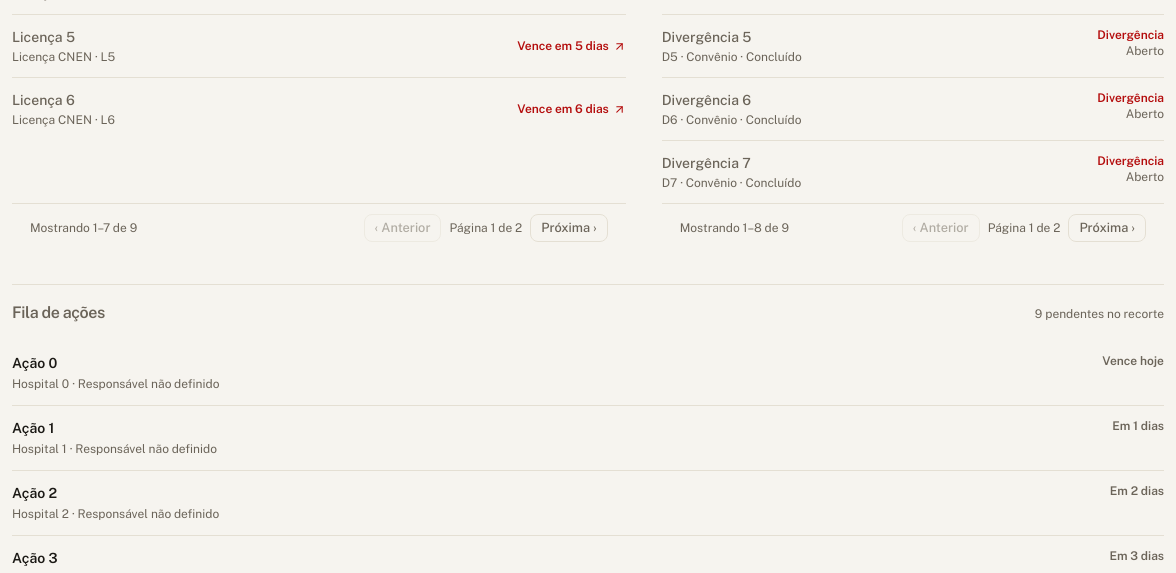
Test: MonitoramentoPainelPendencias › pagina todas as listas operacionais sem perder registros
(page scrolled)
Click the button "Próxima ›" below "Vence em 6 dias".
click(569, 228)  # box [530, 214, 608, 242]
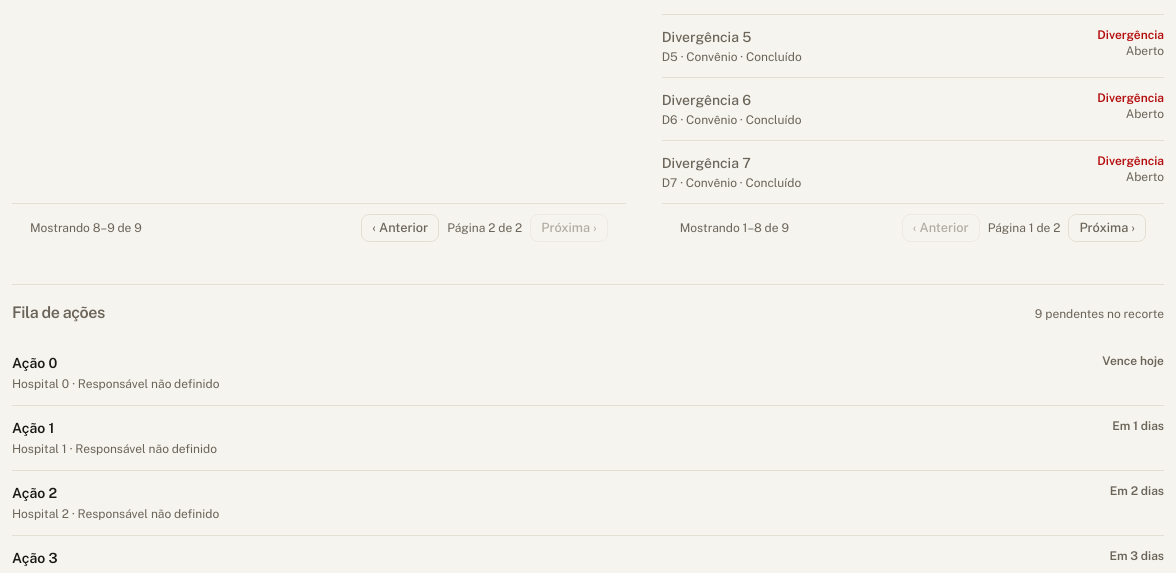
Click the 2nd button "Próxima ›".
click(1107, 228)  # box [1068, 214, 1146, 242]
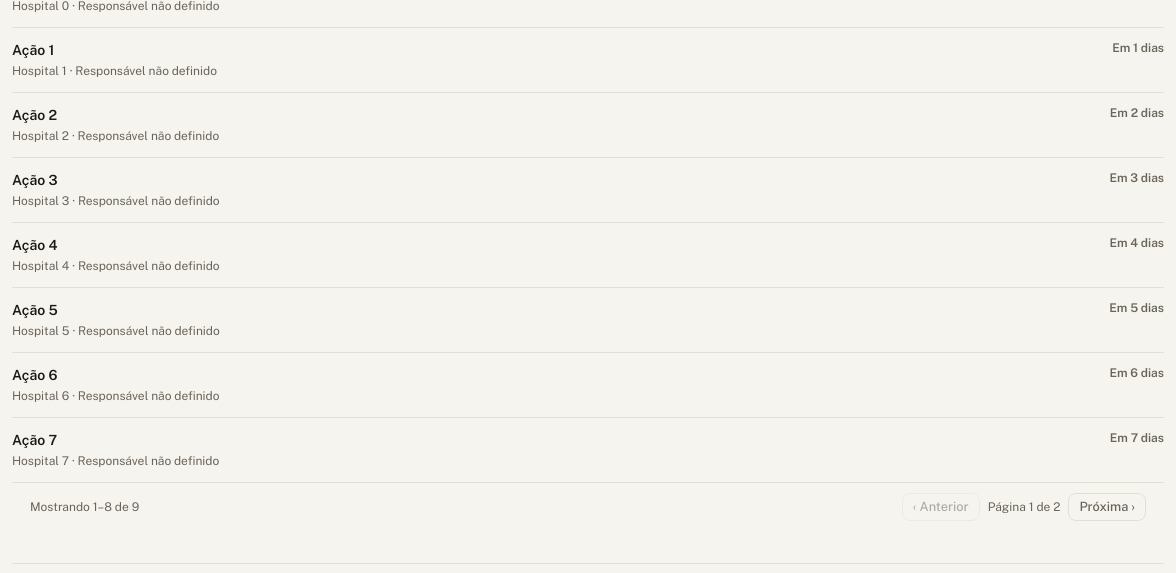
Click the button "Próxima ›".
click(1107, 507)  # box [1068, 493, 1146, 521]
(page scrolled)
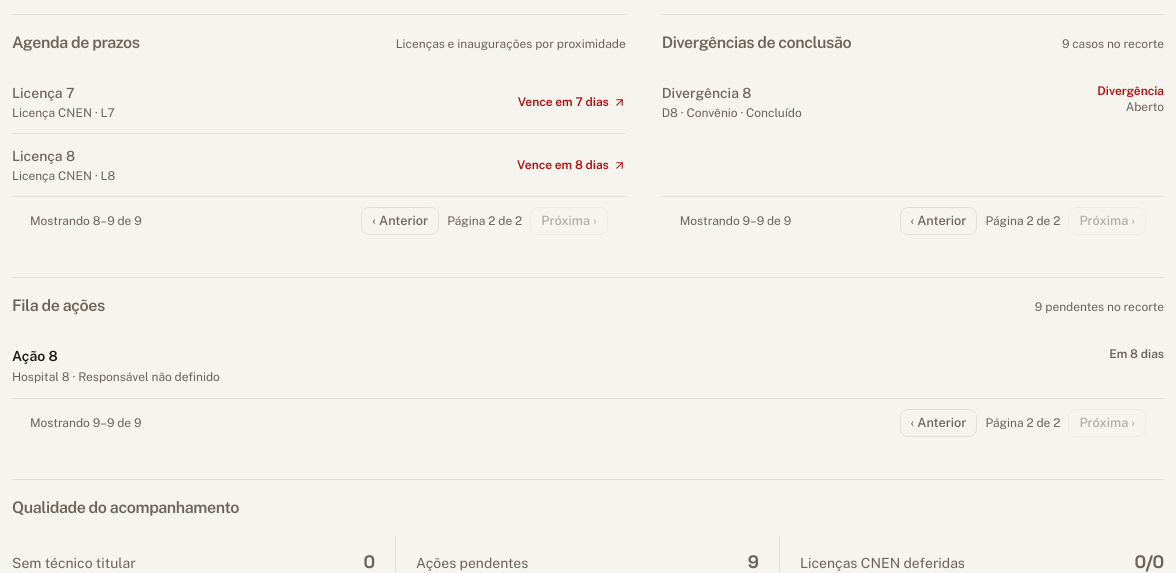
Expected: the text "Licença 8" is shown, [12, 148, 75, 164]
Expected: the text "Divergência 8" is shown, [662, 85, 751, 101]
Expected: the text "Ação 8" is shown, [12, 348, 58, 364]
